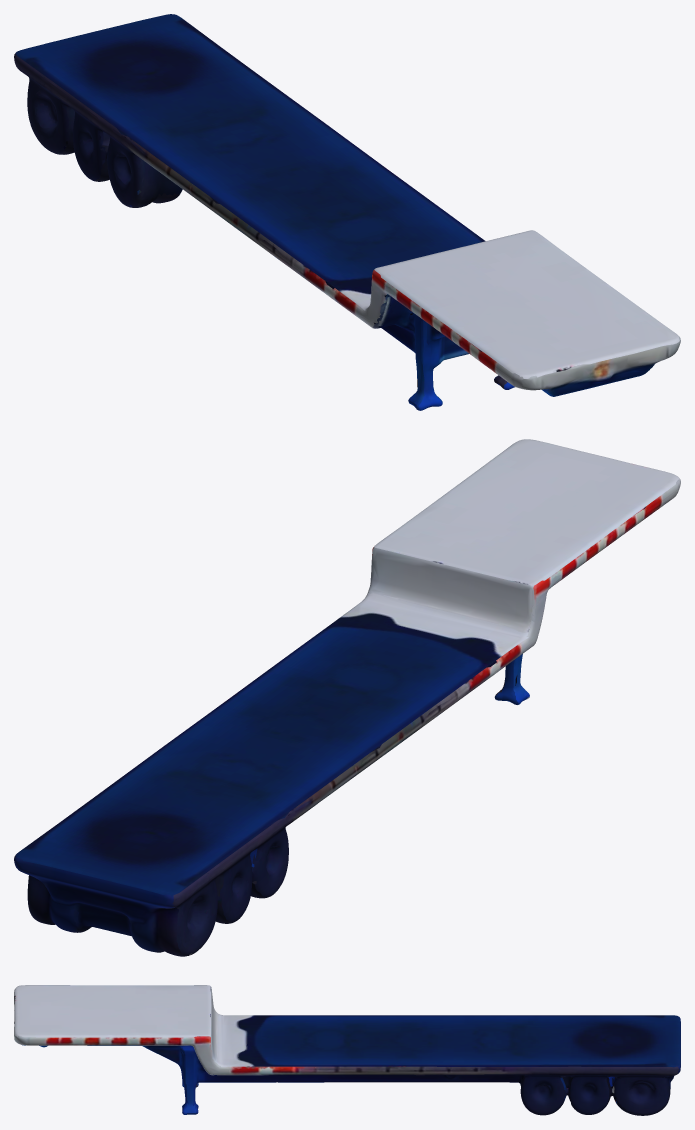
The model's file is compressed_22c1994d-b40a-43b3-898b-4dcf2d2d5801_white_mesh.glb.
The picture shows the model from 3 angles, top to bottom: view 1: azimuth 30°, elevation 25°; view 2: azimuth 150°, elevation 25°; view 3: azimuth 270°, elevation 25°; orthographic projection. The views are drawn at different scales.
Parts seen in each view (by area): view 1: tmpjrki9607.ply; view 2: tmpjrki9607.ply; view 3: tmpjrki9607.ply.
Boxes of the visible parts, x1=… form: tmpjrki9607.ply: x1=14, y1=14, x2=680, y2=410; tmpjrki9607.ply: x1=14, y1=439, x2=680, y2=956; tmpjrki9607.ply: x1=14, y1=985, x2=680, y2=1115.
Bounding box in the file's own units: 0.3689 × 0.2858 × 1.96.
Materials: 1 (1 with a texture image).
